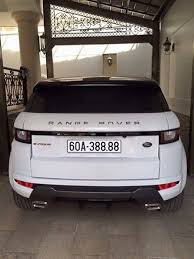Car number plates: (67, 140, 121, 152)
